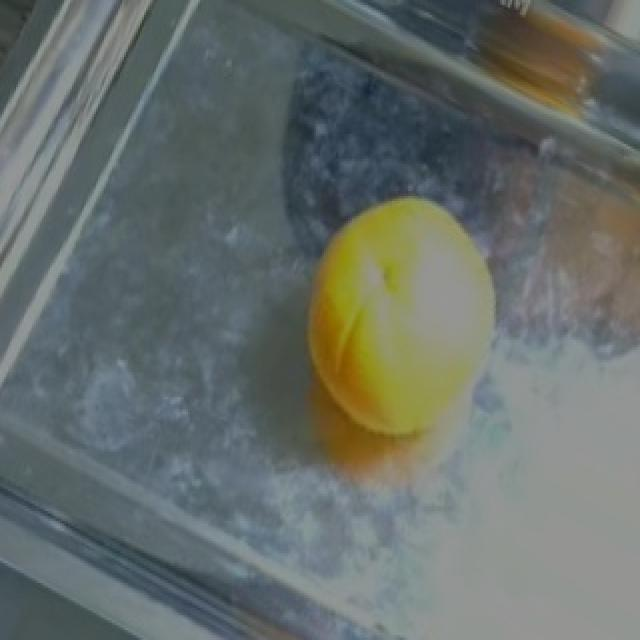Fruit: (288, 176, 522, 521)
